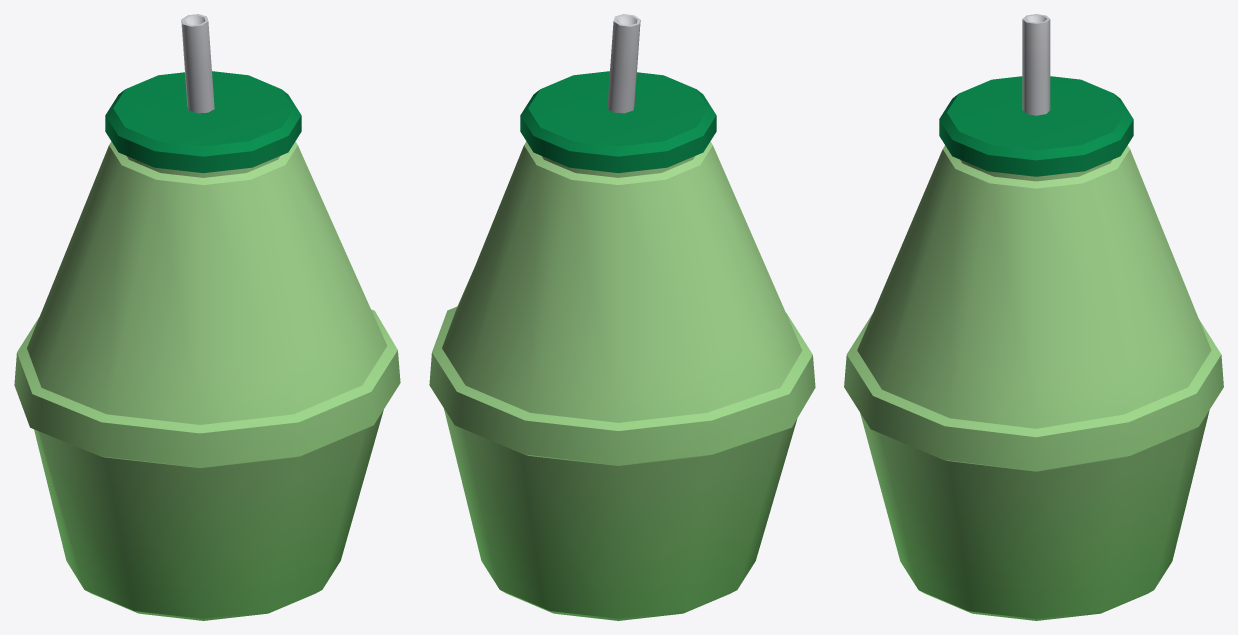
Rendered from Binggra_milk_bottle_02.fbx.
The picture shows the model from 3 angles, left to right: view 1: azimuth 30°, elevation 25°; view 2: azimuth 150°, elevation 25°; view 3: azimuth 270°, elevation 25°; orthographic projection.
Parts seen in each view (by area): view 1: Binggra_milk_bottle_02, Straw_BM_02; view 2: Binggra_milk_bottle_02, Straw_BM_02; view 3: Binggra_milk_bottle_02, Straw_BM_02.
Part boxes in pixels (x1,y1,x2,y2): Binggra_milk_bottle_02: [14, 71, 400, 620]; Straw_BM_02: [181, 14, 214, 113]; Binggra_milk_bottle_02: [429, 71, 815, 620]; Straw_BM_02: [607, 14, 640, 113]; Binggra_milk_bottle_02: [844, 76, 1223, 620]; Straw_BM_02: [1022, 14, 1050, 115].
Bounding box in the file's own units: 88.64 × 134 × 84.76.
